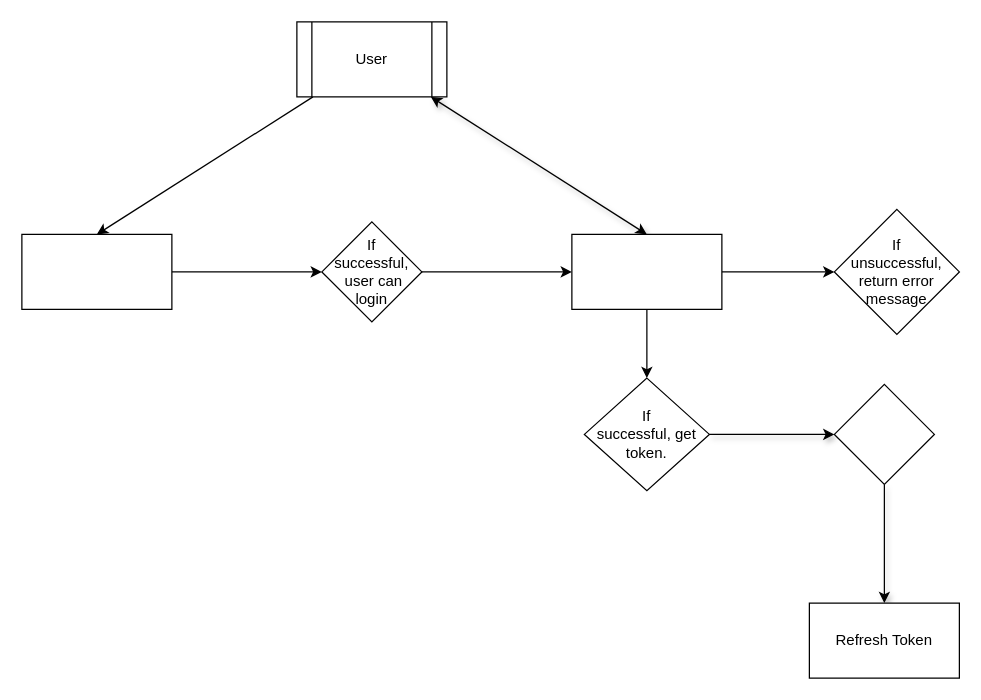
The diagram is 981 pixels wide and 700 high, and some of its shapes have lost their labels. Each missing label, with the centre of its shape:
"If accessToken expires" goes at [883,433].
"Login" goes at [646,271].
"Sign In" goes at [96,271].
